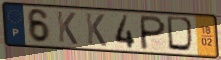4: (113, 13, 137, 50)
6: (26, 8, 53, 45)
D: (165, 15, 197, 55)
K: (84, 12, 108, 48), (56, 10, 79, 47)
P: (138, 14, 167, 51)
